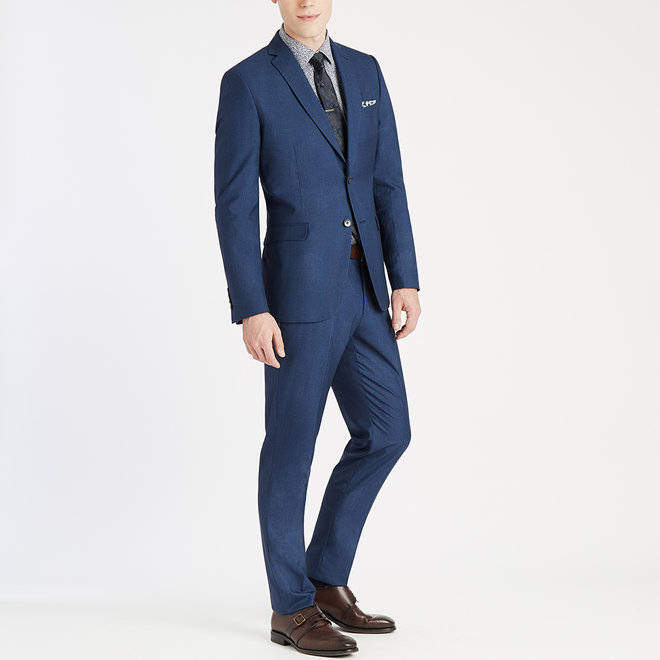F_M_suit jacket: (206, 39, 423, 315)
F_dress pants: (249, 264, 416, 588)
F_dress shoes: (253, 599, 351, 658), (306, 574, 402, 632)
F_pocket square: (354, 89, 379, 113)
F_tie: (302, 49, 349, 151)
F_tie clip: (314, 102, 340, 115)
